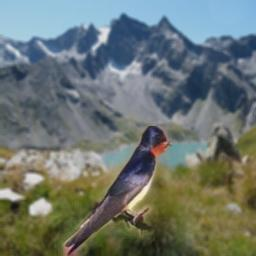Swallow: (54, 126, 172, 256)
